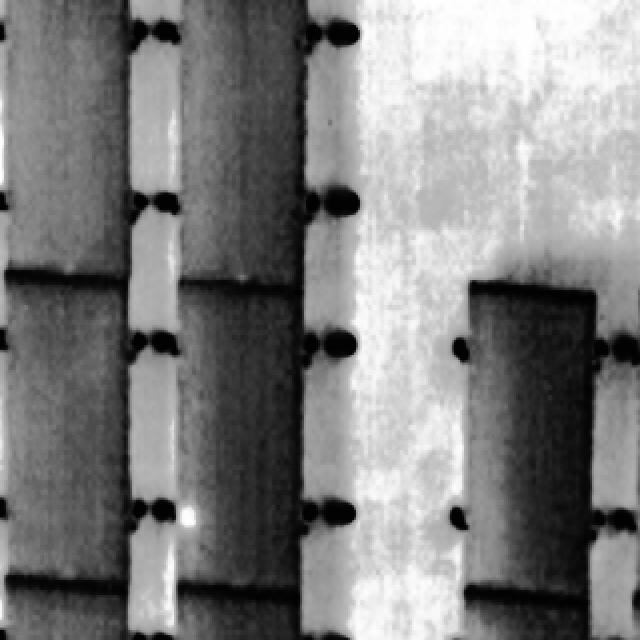Hotspots: (172, 488, 204, 546)
PV-modules: (4, 279, 134, 594), (173, 0, 310, 293), (464, 284, 594, 592), (177, 290, 303, 590), (4, 0, 133, 282), (8, 580, 130, 640), (172, 587, 302, 640), (460, 585, 584, 640), (636, 285, 640, 607), (634, 592, 640, 640)
